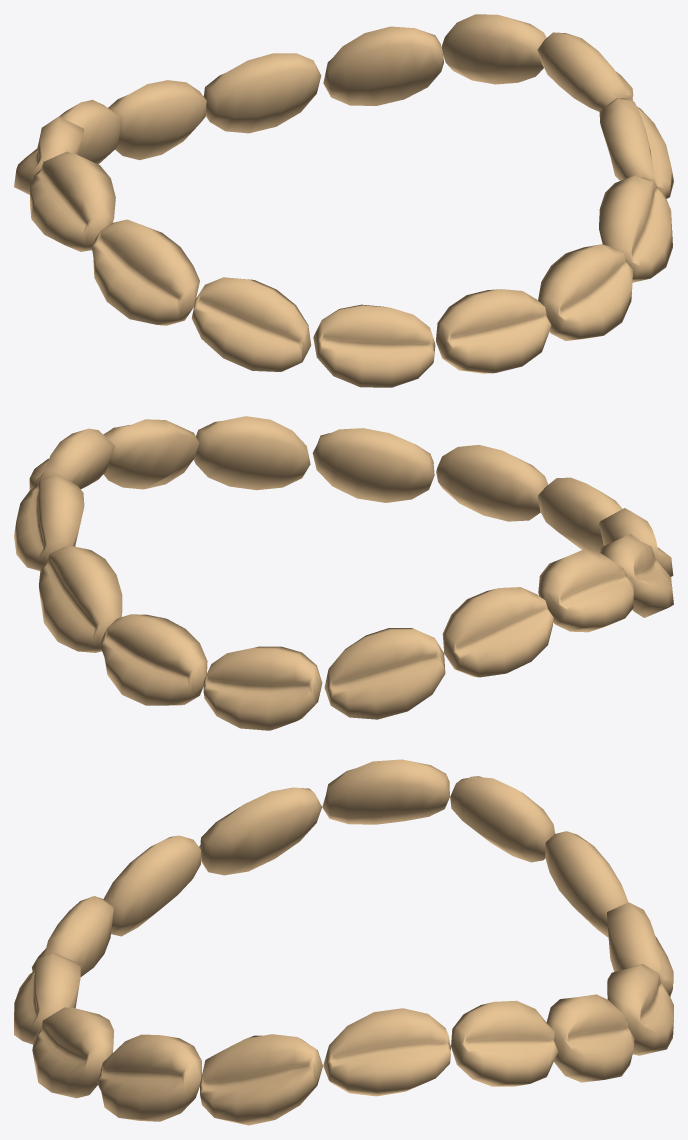
The model's file is CUShellNecklace.fbx.
The picture shows the model from 3 angles, top to bottom: view 1: azimuth 30°, elevation 25°; view 2: azimuth 150°, elevation 25°; view 3: azimuth 270°, elevation 25°; orthographic projection. The views are drawn at different scales.
Parts seen in each view (by area): view 1: PukashellNecklace; view 2: PukashellNecklace; view 3: PukashellNecklace.
Part boxes in pixels (left/top/right/bottom): PukashellNecklace: left=14, top=14, right=673, bottom=387; PukashellNecklace: left=14, top=416, right=673, bottom=730; PukashellNecklace: left=14, top=759, right=673, bottom=1125.
Bounding box in the file's own units: 110 × 27.13 × 104.
